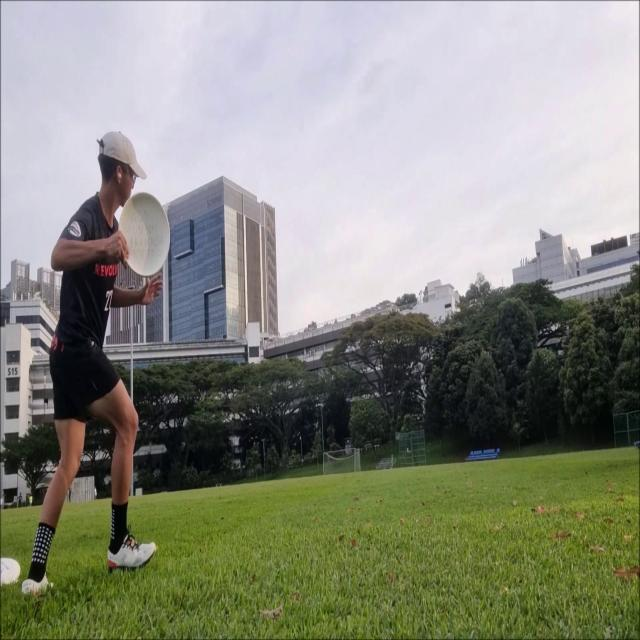disc: (118, 190, 171, 279)
